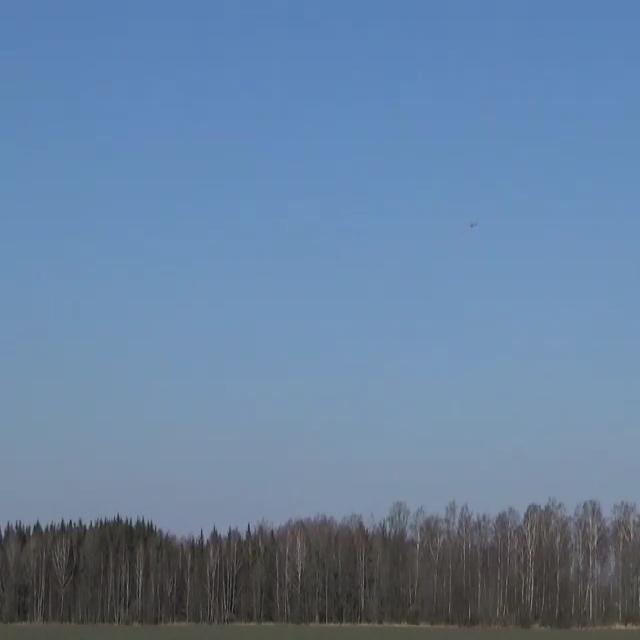Drone: (457, 207, 488, 240)
